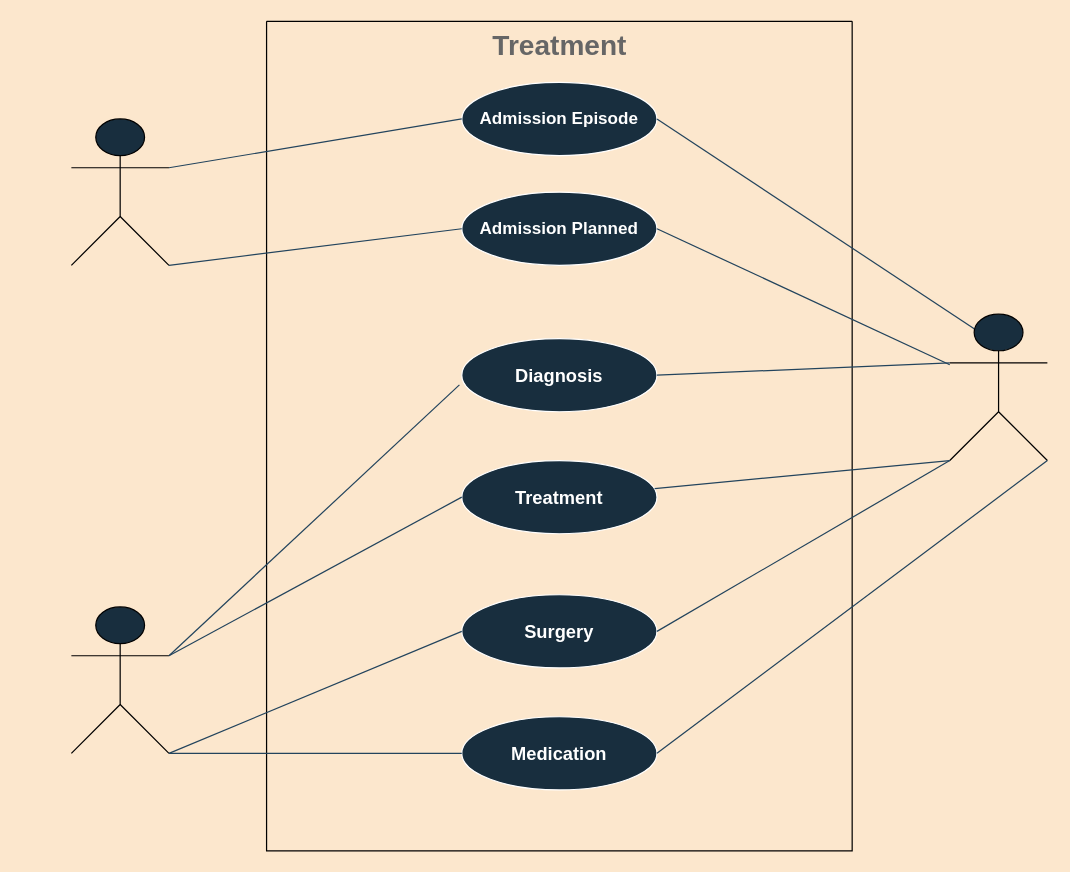
This 1070x872 diagram has some shape labels left out. Here are the shapes that lost their labels. From the top down, the box of each, then its label:
(70, 118, 169, 265): Community Doctor
(949, 313, 1047, 461): Patient
(70, 606, 169, 753): Hospital Doctor
